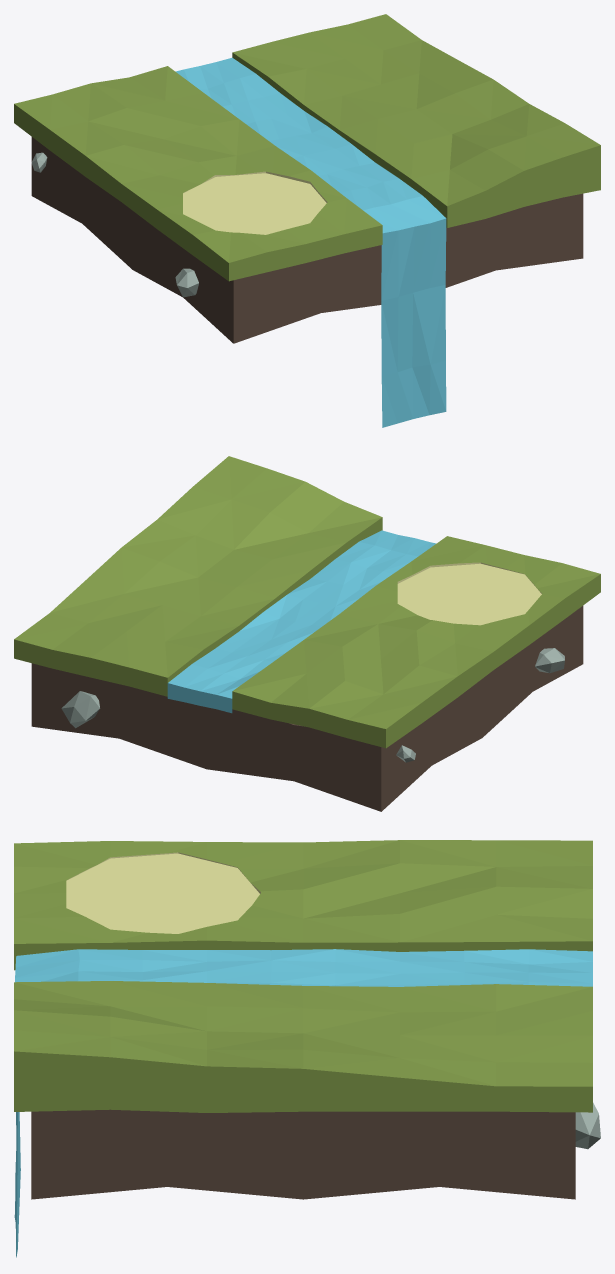
Rendered from world-forest.fbx.
3 renders of one model, top to bottom at view 1: azimuth 30°, elevation 25°; view 2: azimuth 150°, elevation 25°; view 3: azimuth 270°, elevation 25°, orthographic. The views are drawn at different scales.
Parts seen in each view (by area): view 1: nature_terrain, nature_terrain.001, Icosphere; view 2: nature_terrain, nature_terrain.001, Icosphere; view 3: nature_terrain, nature_terrain.001, Icosphere.
Part boxes in pixels (left/top/right/bottom): nature_terrain: left=14, top=14, right=600, bottom=343; nature_terrain.001: left=175, top=57, right=446, bottom=427; Icosphere: left=31, top=152, right=198, bottom=297; nature_terrain: left=14, top=456, right=600, bottom=811; nature_terrain.001: left=167, top=530, right=436, bottom=713; Icosphere: left=61, top=648, right=564, bottom=762; nature_terrain: left=14, top=840, right=592, bottom=1199; nature_terrain.001: left=14, top=949, right=592, bottom=1257; Icosphere: left=575, top=1102, right=600, bottom=1149.
Bounding box in the file's own units: 20.43 × 20.28 × 11.8.
